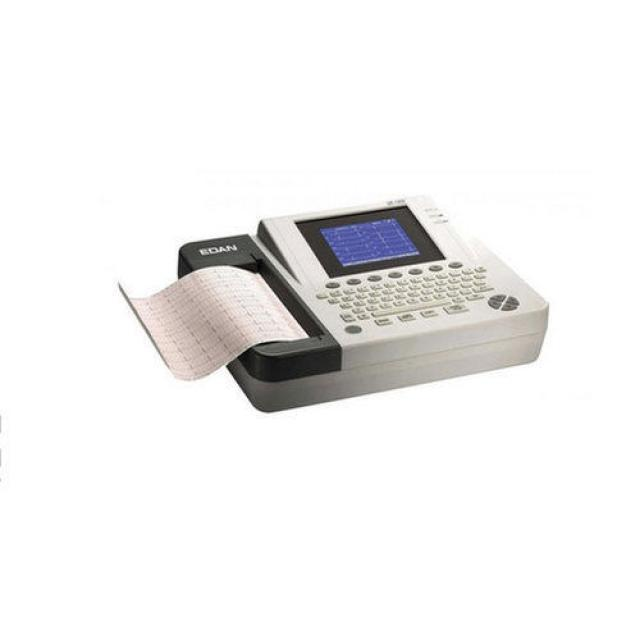Monitor: (121, 187, 548, 413)
